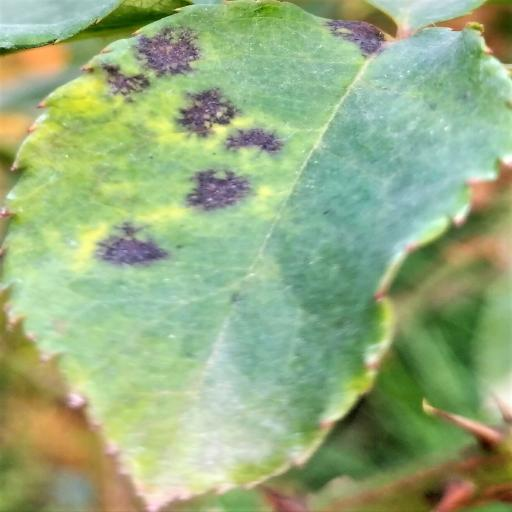black_spot: (3, 0, 512, 501)
